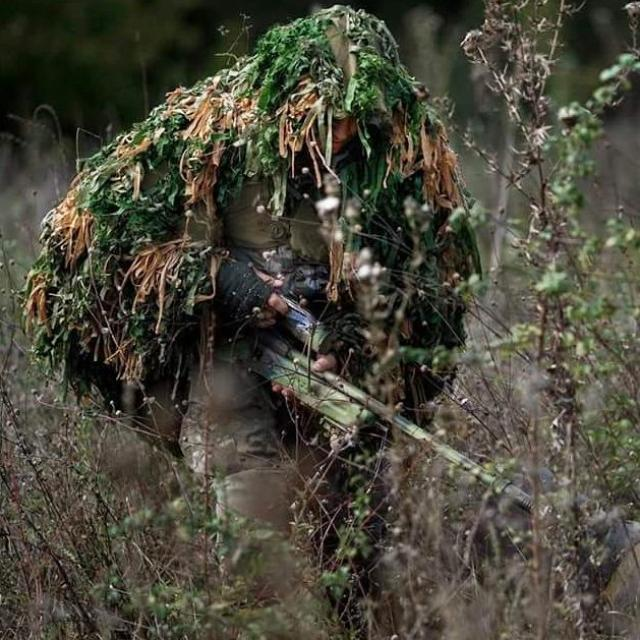Human: (24, 8, 536, 606)
